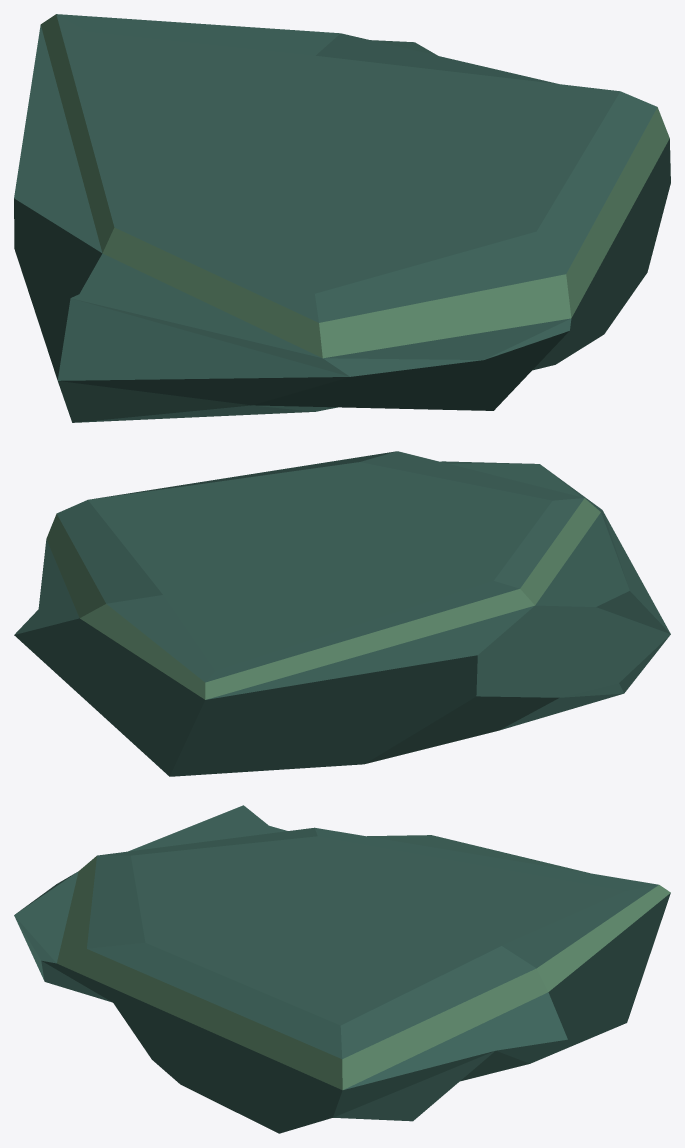
Rendered from Stone_22.fbx.
3 views of the same model, one above another, from view 1: azimuth 30°, elevation 25°; view 2: azimuth 150°, elevation 25°; view 3: azimuth 270°, elevation 25° (orthographic). The views are drawn at different scales.
Parts seen in each view (by area): view 1: Stone 22; view 2: Stone 22; view 3: Stone 22.
Boxes of the visible parts, box(x1,y1,x2,y2) form: Stone 22: box(14, 14, 670, 422); Stone 22: box(14, 451, 670, 776); Stone 22: box(14, 805, 670, 1133).
Bounding box in the file's own units: 6818 × 1493 × 7303.
